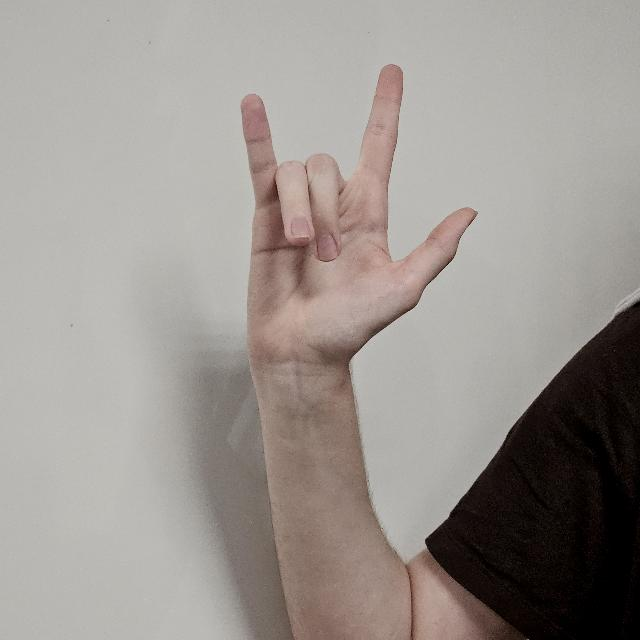Cima: (234, 63, 473, 377)
